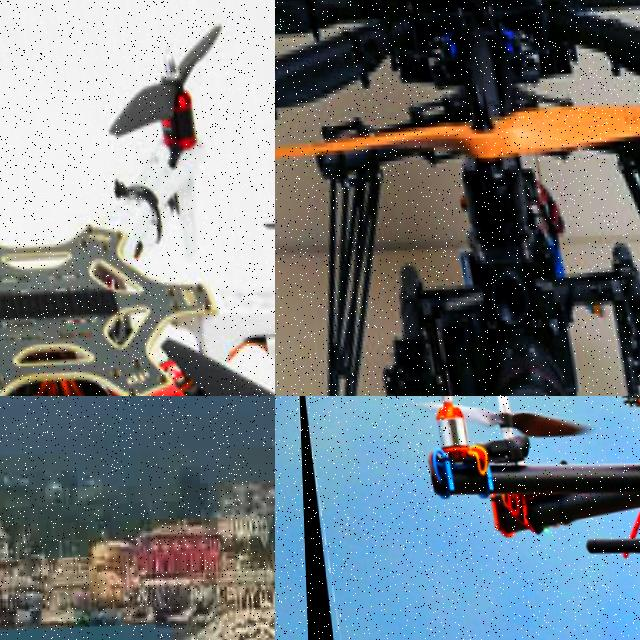drone: (275, 0, 640, 396), (0, 0, 275, 396), (297, 396, 640, 640)
